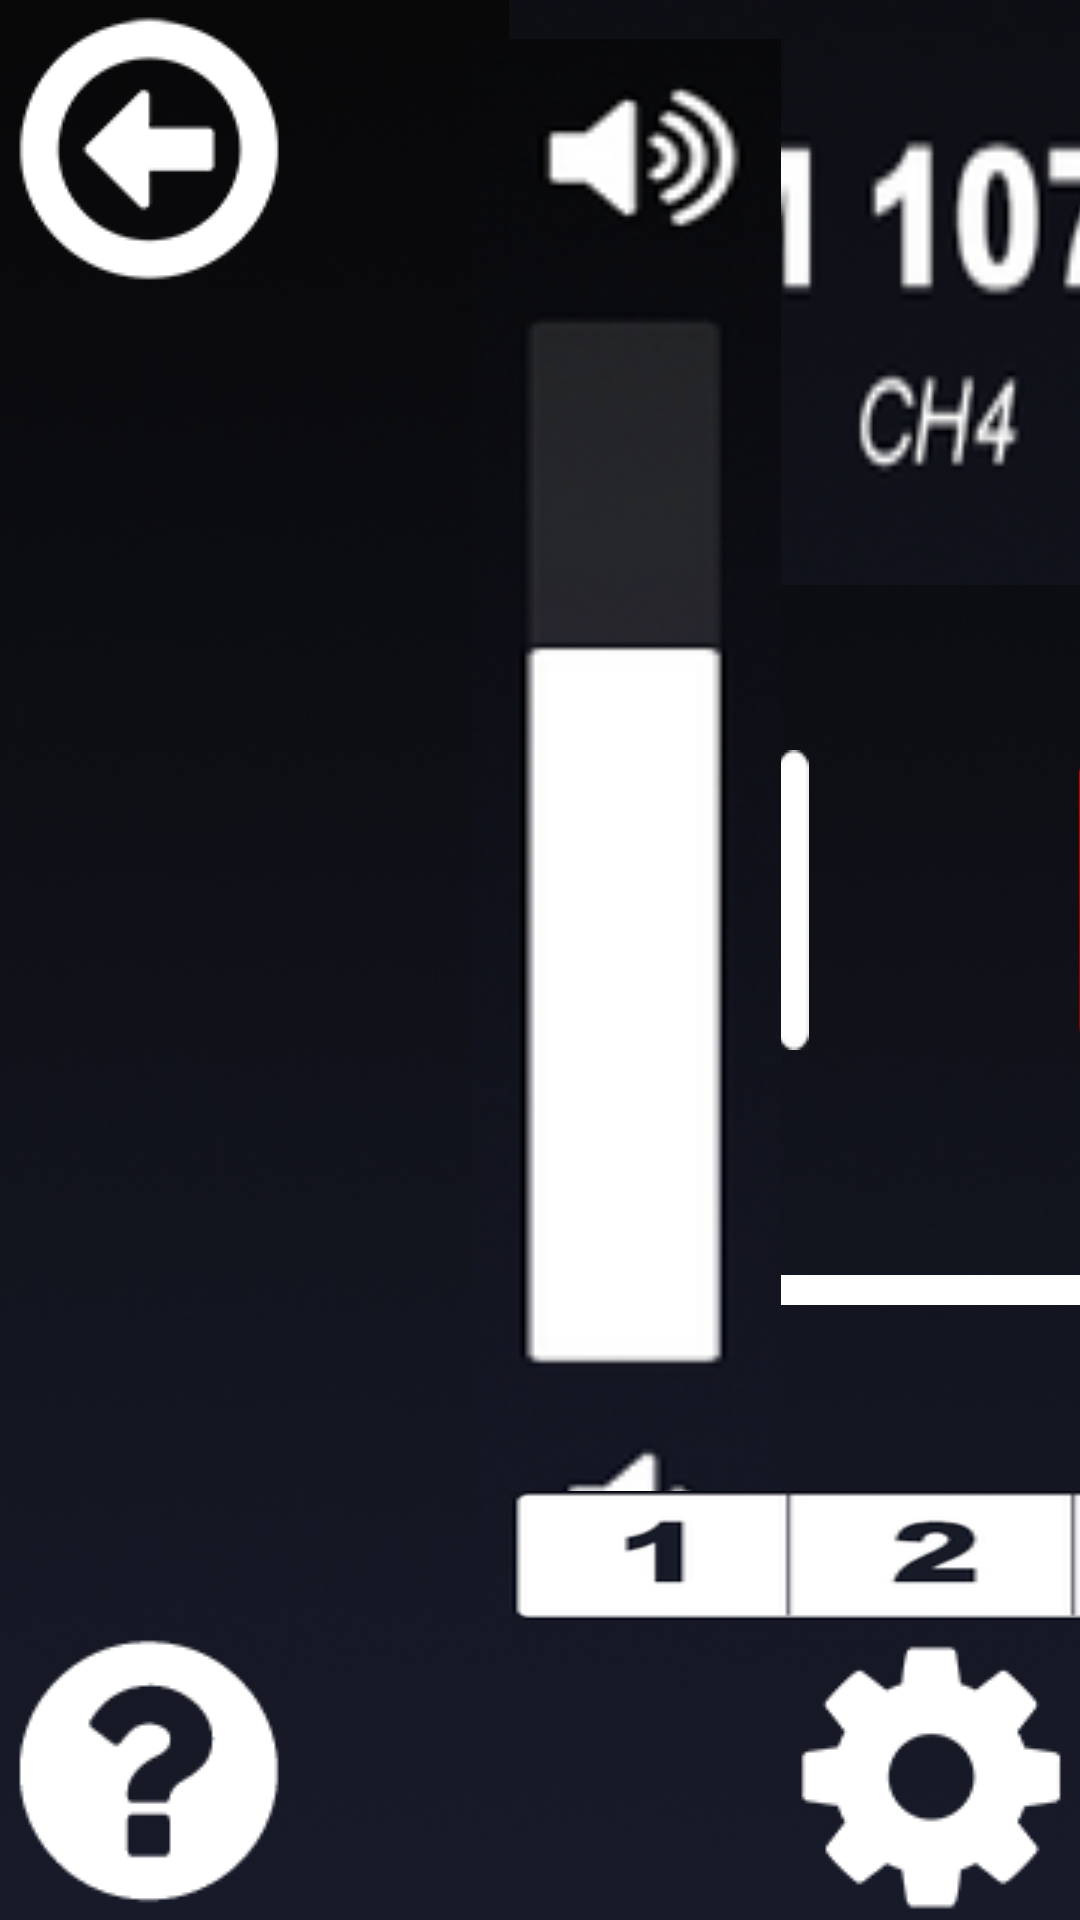

Screen size 1080×1920. Icon name, then its box in pixels as (x1, y1, x2, y2):
help: (19, 1640, 279, 1902)
settings: (801, 1646, 1061, 1909)
